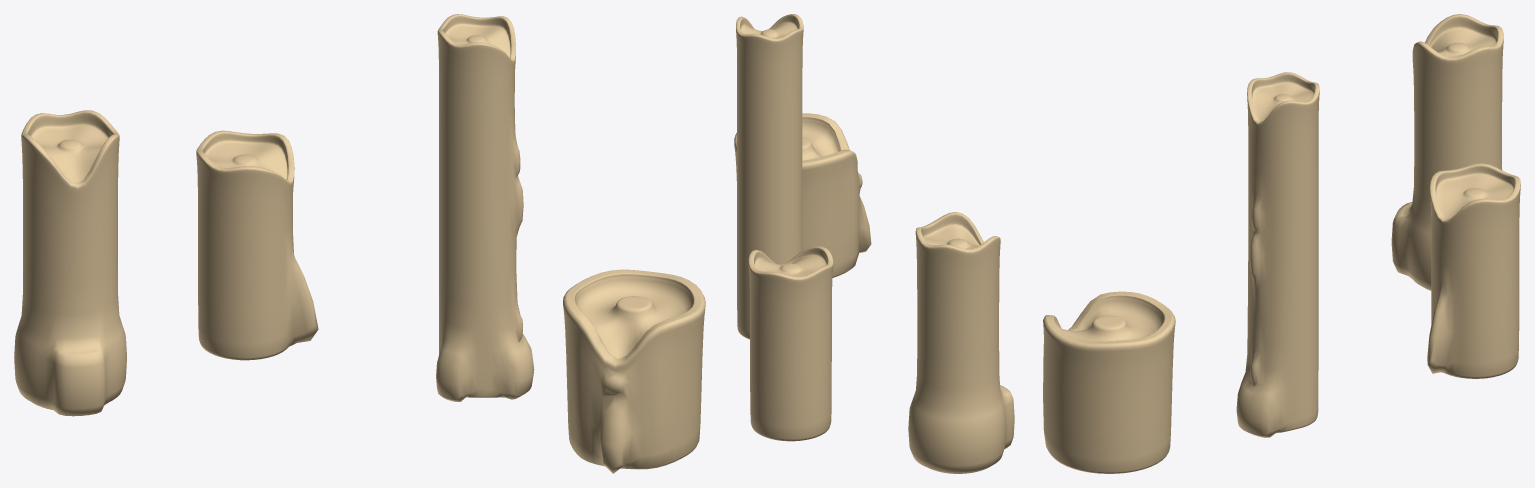
The model's file is Candles.fbx.
The picture shows the model from 3 angles, left to right: view 1: azimuth 30°, elevation 25°; view 2: azimuth 150°, elevation 25°; view 3: azimuth 270°, elevation 25°; orthographic projection. The views are drawn at different scales.
Visible parts, largest first — view 1: Candle2, Candle4, Candle1, Candle3; view 2: Candle4, Candle2, Candle3, Candle1; view 3: Candle2, Candle1, Candle3, Candle4.
Boxes of the visible parts, bbox=[...] form: Candle2: bbox=[436, 14, 534, 401]; Candle4: bbox=[14, 110, 126, 416]; Candle1: bbox=[563, 269, 705, 473]; Candle3: bbox=[196, 130, 318, 360]; Candle4: bbox=[908, 212, 1014, 473]; Candle2: bbox=[736, 14, 803, 339]; Candle3: bbox=[748, 246, 833, 441]; Candle1: bbox=[734, 113, 871, 277]; Candle2: bbox=[1236, 72, 1319, 437]; Candle1: bbox=[1043, 291, 1175, 473]; Candle3: bbox=[1427, 163, 1520, 378]; Candle4: bbox=[1391, 14, 1503, 290].
Bounding box in the file's own units: 14.58 × 10.34 × 13.39.
